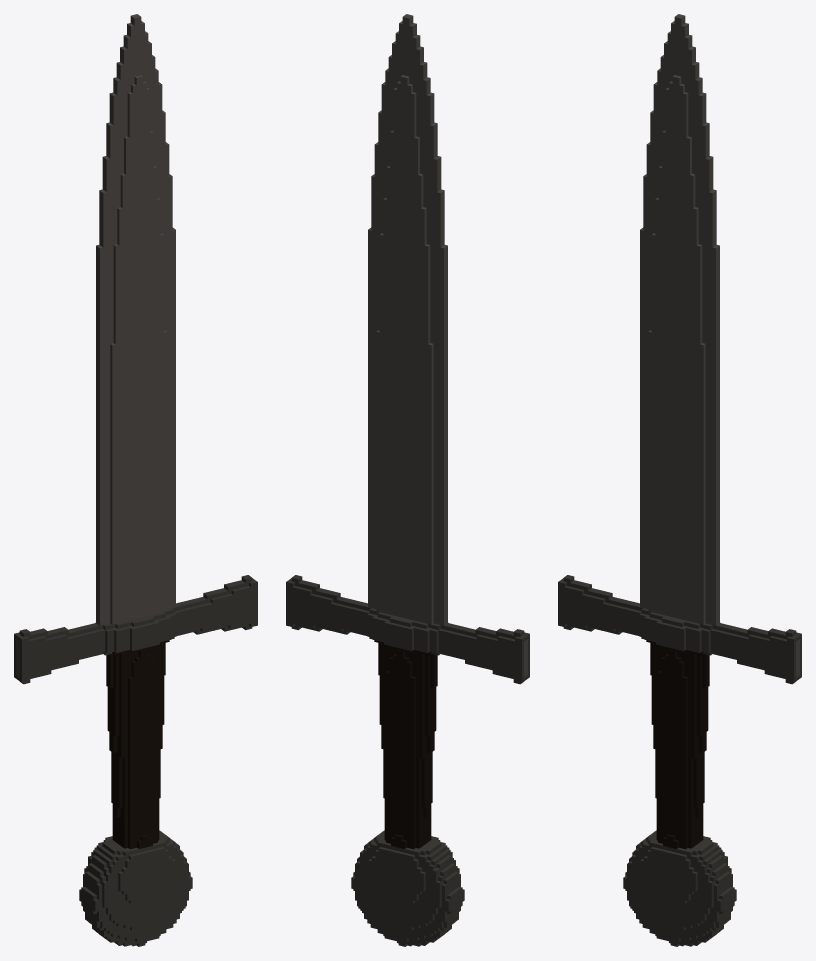
File: Dagger - Iron.obj
3 renders of one model, left to right at view 1: azimuth 30°, elevation 25°; view 2: azimuth 150°, elevation 25°; view 3: azimuth 330°, elevation 25°, orthographic.
Bounding box in the file's own units: 6.8 × 25.5 × 1.2.
Materials: 1 (1 with a texture image).
